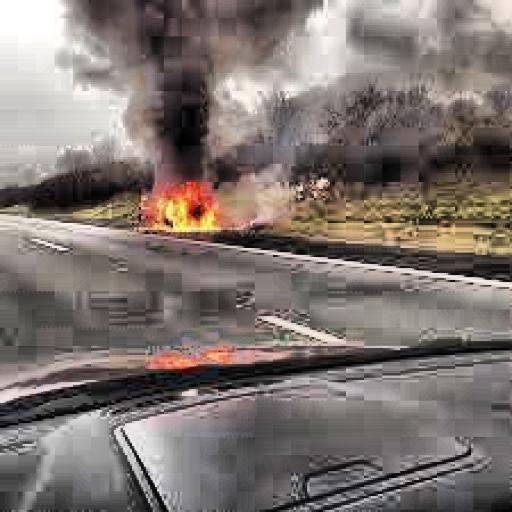fire: (123, 175, 232, 241)
